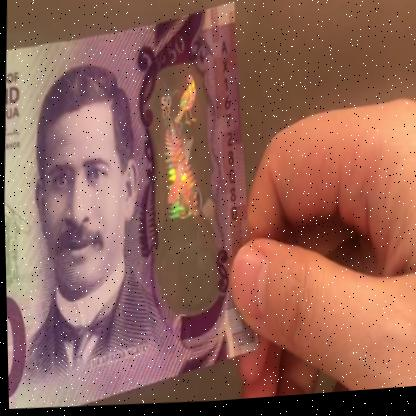50F: (147, 69, 216, 297)
